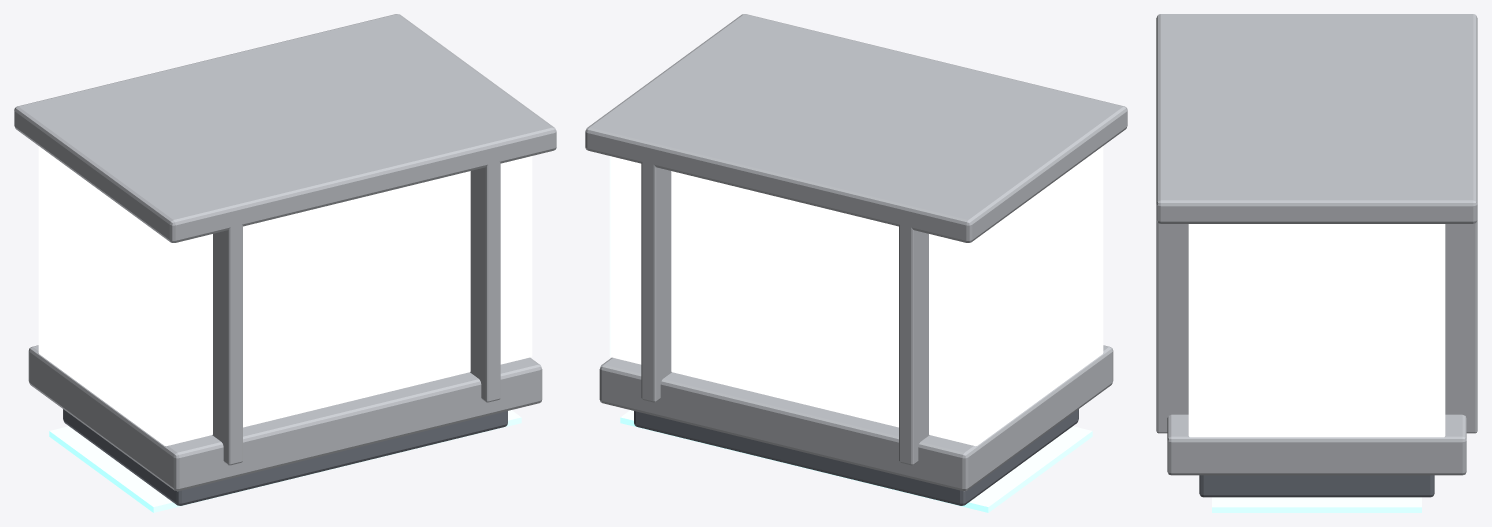
Rendered from bridge_2.glb.
3 renders of one model, left to right at view 1: azimuth 30°, elevation 25°; view 2: azimuth 150°, elevation 25°; view 3: azimuth 270°, elevation 25°, orthographic.
Visible parts, largest first — view 1: ext_bridge_glass, ext_bridge_roof, ext_bridge_floor, ext_bridge_ribs, ext_bridge_under, ext_bridge_glow; view 2: ext_bridge_glass, ext_bridge_roof, ext_bridge_floor, ext_bridge_ribs, ext_bridge_under, ext_bridge_glow; view 3: ext_bridge_roof, ext_bridge_glass, ext_bridge_ribs, ext_bridge_floor, ext_bridge_under, ext_bridge_glow.
Part boxes in pixels (x1=…): ext_bridge_glass: x1=38, y1=146, x2=532, y2=446; ext_bridge_roof: x1=14, y1=14, x2=556, y2=242; ext_bridge_floor: x1=28, y1=345, x2=542, y2=491; ext_bridge_ribs: x1=212, y1=154, x2=500, y2=465; ext_bridge_under: x1=63, y1=409, x2=507, y2=505; ext_bridge_glow: x1=49, y1=410, x2=521, y2=512; ext_bridge_glass: x1=609, y1=146, x2=1103, y2=446; ext_bridge_roof: x1=585, y1=14, x2=1127, y2=242; ext_bridge_floor: x1=599, y1=345, x2=1113, y2=491; ext_bridge_ribs: x1=641, y1=152, x2=929, y2=465; ext_bridge_under: x1=634, y1=409, x2=1078, y2=505; ext_bridge_glow: x1=620, y1=410, x2=1092, y2=512; ext_bridge_roof: x1=1156, y1=14, x2=1477, y2=223; ext_bridge_glass: x1=1188, y1=224, x2=1445, y2=437; ext_bridge_ribs: x1=1156, y1=220, x2=1477, y2=433; ext_bridge_floor: x1=1167, y1=414, x2=1466, y2=475; ext_bridge_under: x1=1199, y1=475, x2=1434, y2=497; ext_bridge_glow: x1=1212, y1=497, x2=1421, y2=512.
Bounding box in the file's own units: 2.1 × 1.63 × 1.5.
